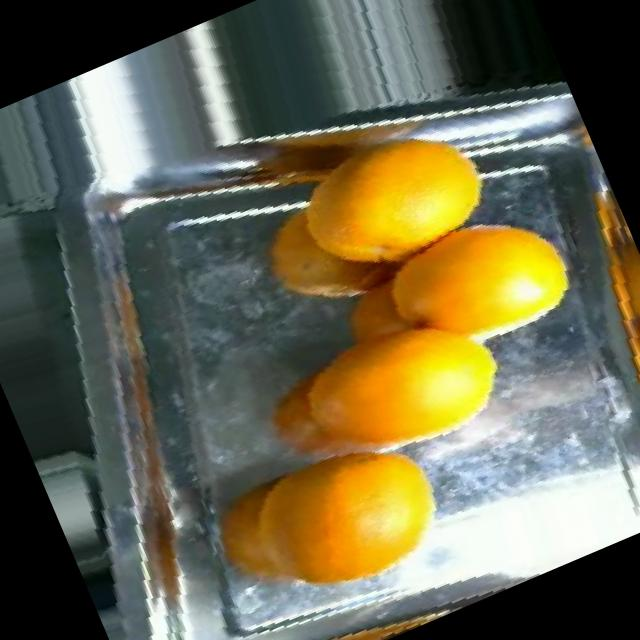Fruit: (372, 173, 603, 386)
